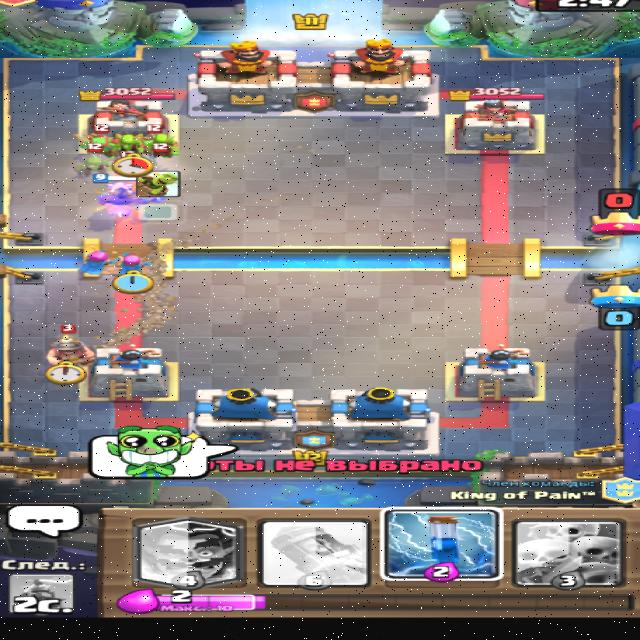Enemy-Goblin: (142, 123, 181, 155), (70, 156, 115, 182)
Enemy-SpearGoblin: (71, 123, 118, 155), (111, 132, 144, 155)
Player-Archer: (77, 245, 118, 274), (112, 250, 150, 274)
Player-HogRider: (90, 172, 166, 217)
